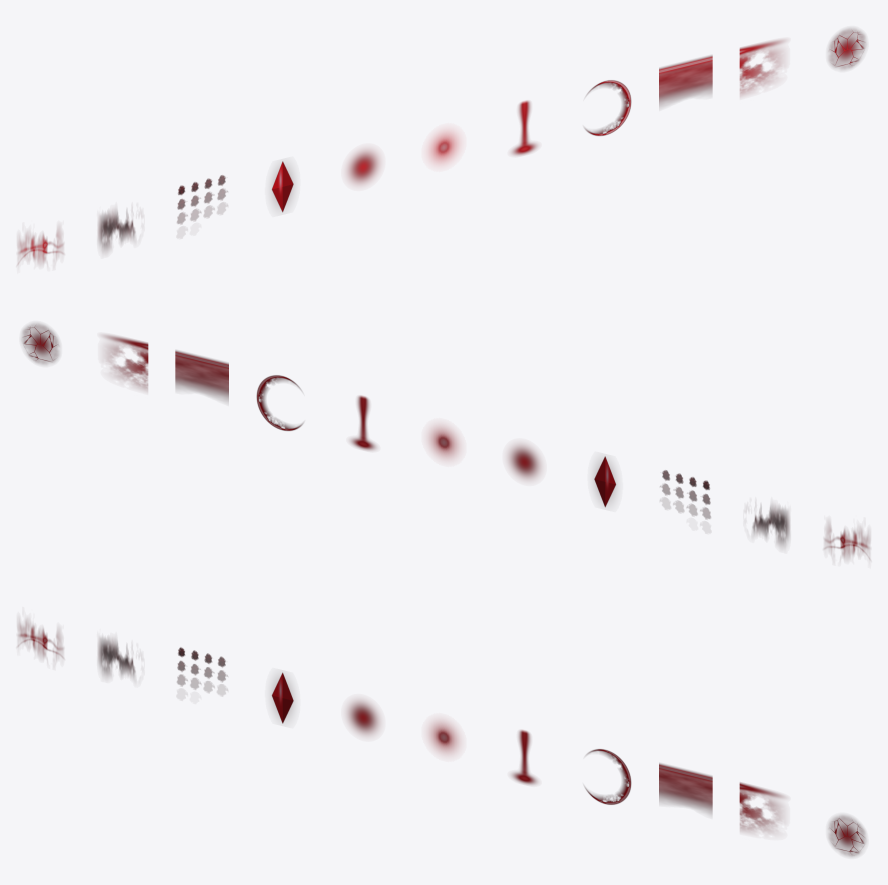
Rendered from ScytheVFX.glb.
3 renders of one model, top to bottom at view 1: azimuth 30°, elevation 25°; view 2: azimuth 150°, elevation 25°; view 3: azimuth 330°, elevation 25°, orthographic.
Visible parts, largest first — view 1: Tex_SlashBand, Tex_Trail, Tex_GroundGlow, Tex_SmokeRibbon, Tex_Glow, Tex_Smoke, Tex_Spark, Tex_Ribbon, Tex_Slash, Tex_Shard, Tex_Drip; view 2: Tex_SlashBand, Tex_Trail, Tex_GroundGlow, Tex_SmokeRibbon, Tex_Glow, Tex_Smoke, Tex_Spark, Tex_Ribbon, Tex_Slash, Tex_Shard, Tex_Drip; view 3: Tex_SlashBand, Tex_Trail, Tex_GroundGlow, Tex_SmokeRibbon, Tex_Glow, Tex_Smoke, Tex_Spark, Tex_Ribbon, Tex_Slash, Tex_Shard, Tex_Drip.
Part boxes in pixels (box(x1,y1,x2,y2)): Tex_SlashBand: box(659, 55, 712, 106); Tex_Trail: box(739, 40, 784, 95); Tex_GroundGlow: box(828, 28, 865, 69); Tex_SmokeRibbon: box(98, 210, 135, 251); Tex_Glow: box(347, 149, 379, 184); Tex_Smoke: box(177, 175, 227, 223); Tex_Spark: box(428, 130, 459, 164); Tex_Ribbon: box(18, 229, 63, 264); Tex_Slash: box(585, 80, 631, 135); Tex_Shard: box(271, 161, 293, 212); Tex_Drip: box(511, 100, 537, 155); Tex_SlashBand: box(175, 350, 228, 401); Tex_Trail: box(103, 335, 148, 390); Tex_GroundGlow: box(22, 323, 59, 364); Tex_SmokeRibbon: box(752, 505, 789, 546); Tex_Glow: box(508, 444, 540, 479); Tex_Smoke: box(660, 470, 710, 518); Tex_Spark: box(428, 425, 459, 459); Tex_Ribbon: box(824, 524, 869, 559); Tex_Slash: box(256, 375, 302, 430); Tex_Shard: box(594, 456, 616, 507); Tex_Drip: box(350, 395, 376, 450); Tex_SlashBand: box(659, 763, 712, 814); Tex_Trail: box(739, 782, 784, 832); Tex_GroundGlow: box(828, 815, 865, 856); Tex_SmokeRibbon: box(98, 637, 135, 677); Tex_Glow: box(347, 700, 379, 735); Tex_Smoke: box(177, 647, 227, 694); Tex_Spark: box(428, 720, 459, 754); Tex_Ribbon: box(18, 620, 63, 658); Tex_Slash: box(585, 749, 631, 804); Tex_Shard: box(271, 672, 293, 723); Tex_Drip: box(511, 730, 537, 784).
Bounding box in the file's own units: 3.2 × 0.2 × 0.
Materials: 11 (11 with a texture image).
